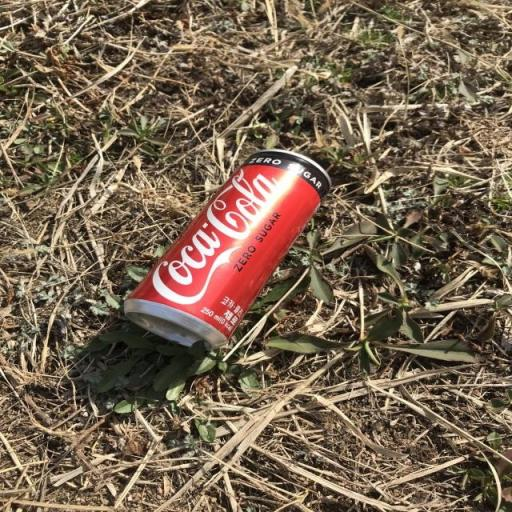metal: (94, 135, 355, 364)
